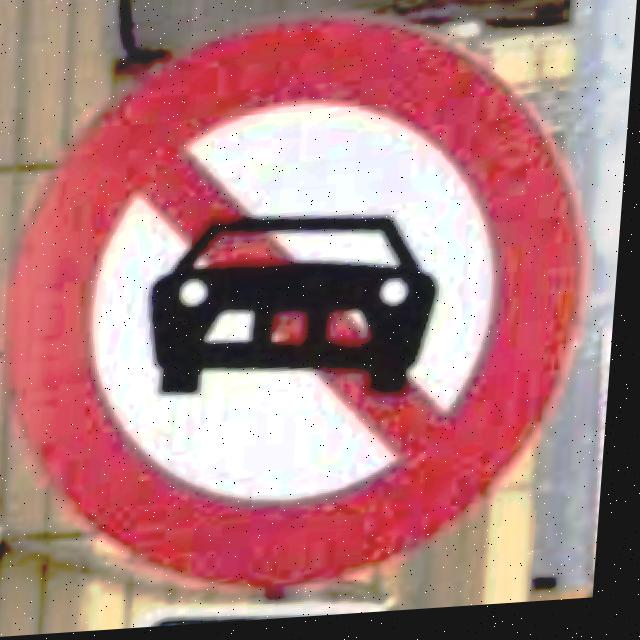nocar: (8, 25, 589, 600)
